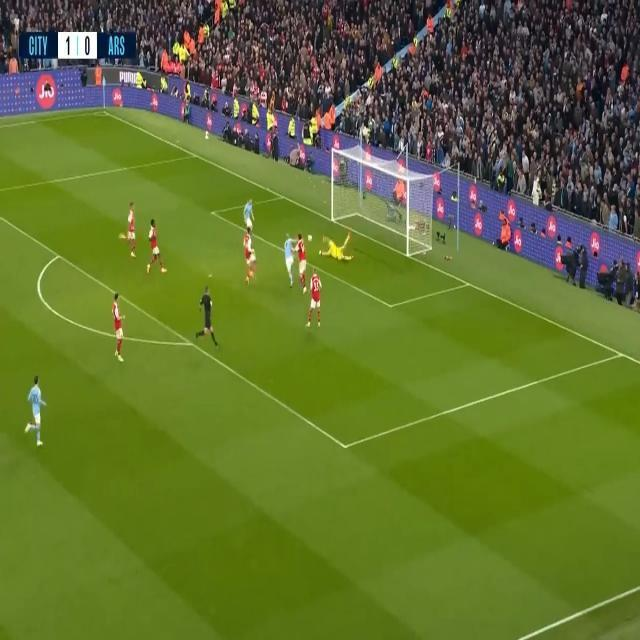ball: (305, 227, 321, 257)
goalkeeper: (322, 232, 362, 273)
player: (103, 263, 144, 386), (14, 379, 64, 463), (143, 214, 176, 298), (117, 196, 146, 270), (239, 188, 263, 247), (291, 226, 315, 281), (304, 272, 331, 319), (242, 217, 256, 293), (280, 228, 296, 287)
referee: (193, 267, 228, 362)
